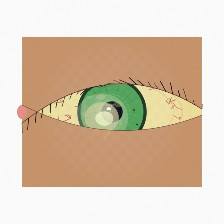corneal_ulcer: (74, 95, 130, 140)
